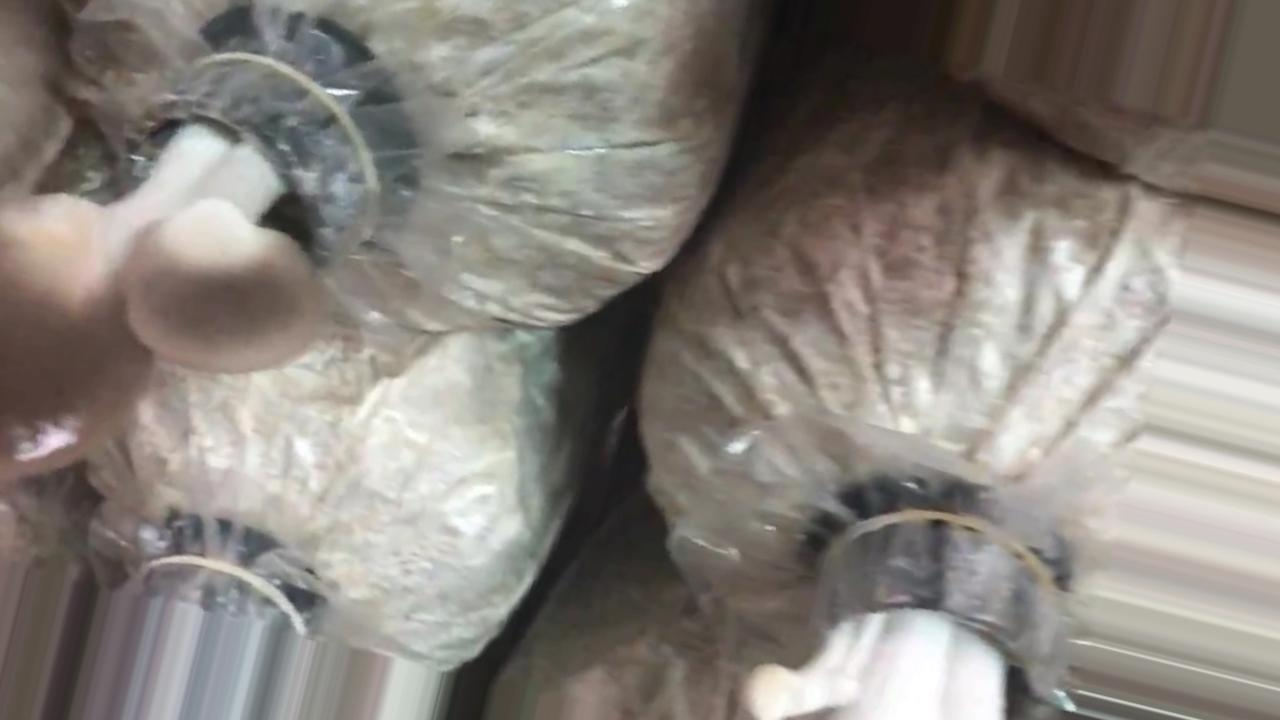nam: (1, 43, 368, 478)
